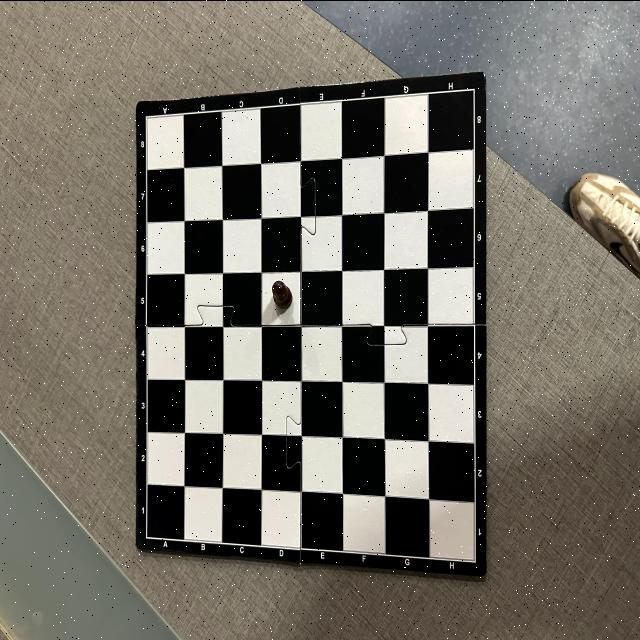Black-Pawn: (272, 280, 292, 308)
